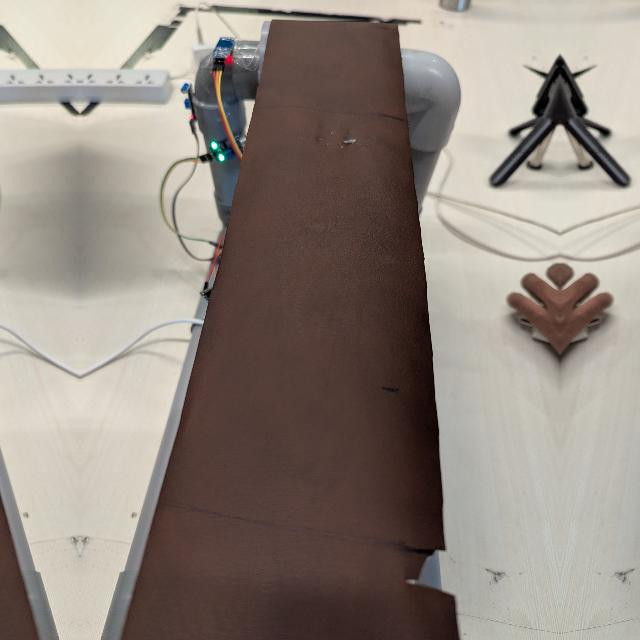belt_crack: (288, 118, 394, 154)
edge_damage: (407, 520, 459, 604)
